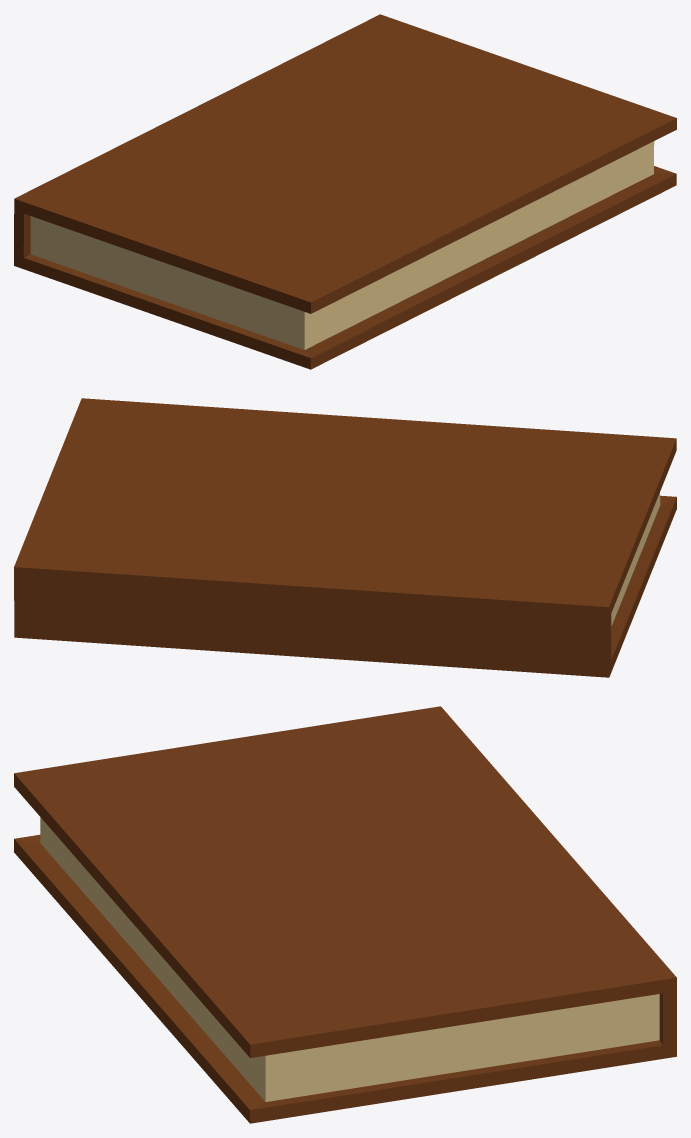
Rendered from Book1_045.fbx.
The picture shows the model from 3 angles, top to bottom: view 1: azimuth 30°, elevation 25°; view 2: azimuth 150°, elevation 25°; view 3: azimuth 270°, elevation 25°; orthographic projection. The views are drawn at different scales.
Visible parts, largest first — view 1: Book1.045; view 2: Book1.045; view 3: Book1.045.
Boxes of the visible parts, x1=… form: Book1.045: x1=14, y1=14, x2=676, y2=369; Book1.045: x1=14, y1=398, x2=676, y2=677; Book1.045: x1=14, y1=706, x2=676, y2=1123.
Bounding box in the file's own units: 45.16 × 5.15 × 37.69.
